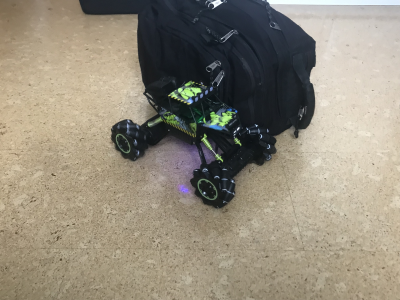remote control car: (109, 77, 279, 207)
